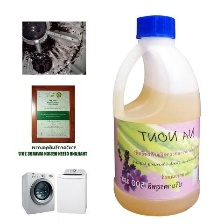cleaning_solution: (111, 9, 202, 217)
